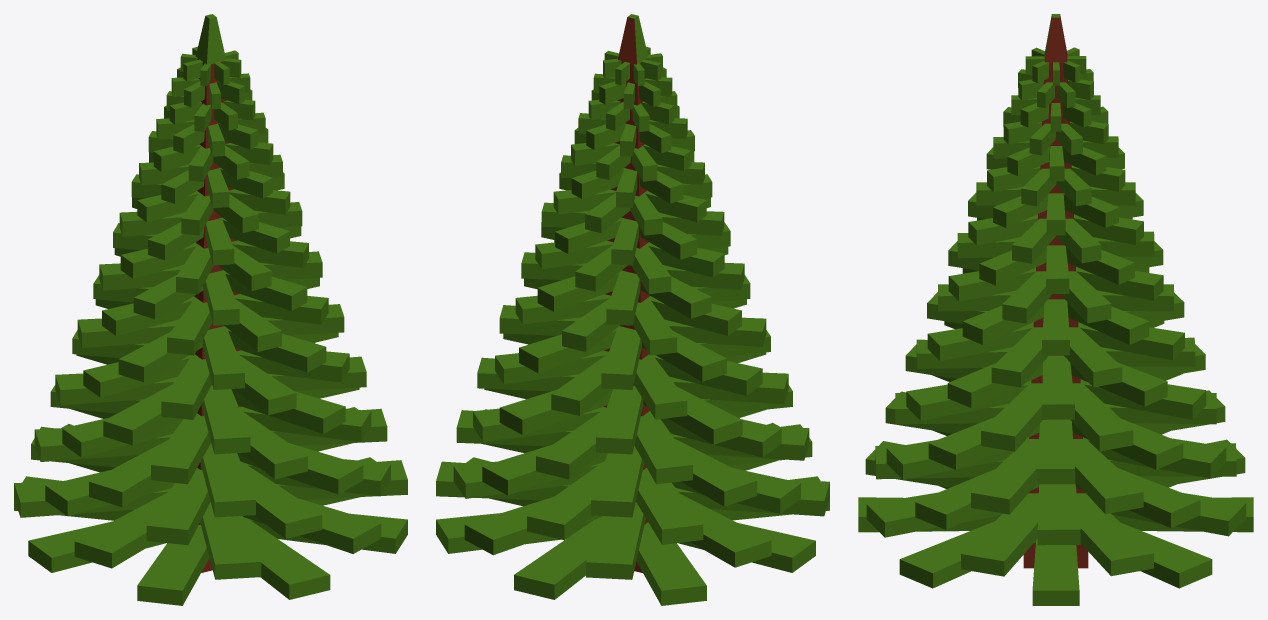
Rendered from tree.fbx.
3 views of the same model, side by side, from view 1: azimuth 30°, elevation 25°; view 2: azimuth 150°, elevation 25°; view 3: azimuth 270°, elevation 25° (orthographic).
Visible parts, largest first — view 1: leaves, tree; view 2: leaves, tree; view 3: leaves, tree.
Part boxes in pixels (box(x1,y1,x2,y2)): leaves: box(14, 14, 407, 605); tree: box(194, 59, 241, 572); leaves: box(436, 14, 829, 605); tree: box(603, 17, 650, 572); leaves: box(858, 14, 1253, 605); tree: box(1023, 14, 1088, 568).
Size of the model in its own units: 500 by 752 by 500.
